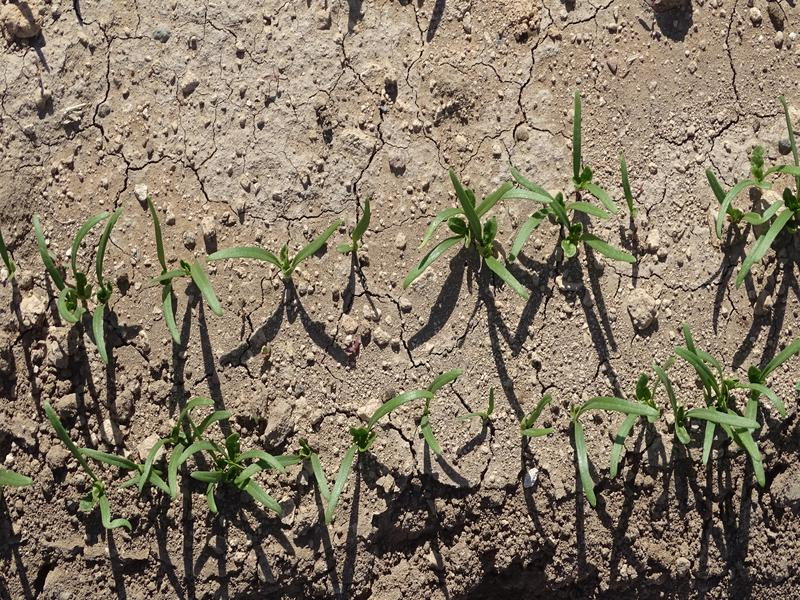Espinaca: (66, 366, 468, 532), (409, 97, 621, 297), (31, 213, 341, 348), (559, 346, 784, 485), (707, 131, 797, 278), (468, 395, 554, 443), (335, 197, 373, 258)
